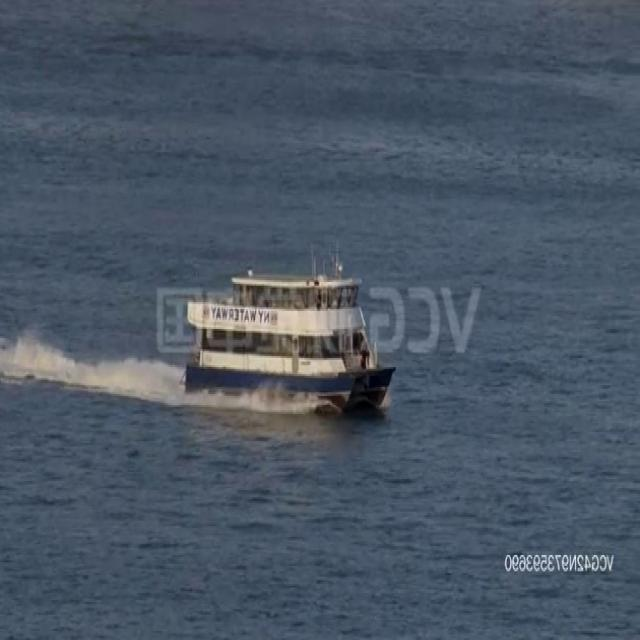passenger ship: (178, 258, 395, 408)
